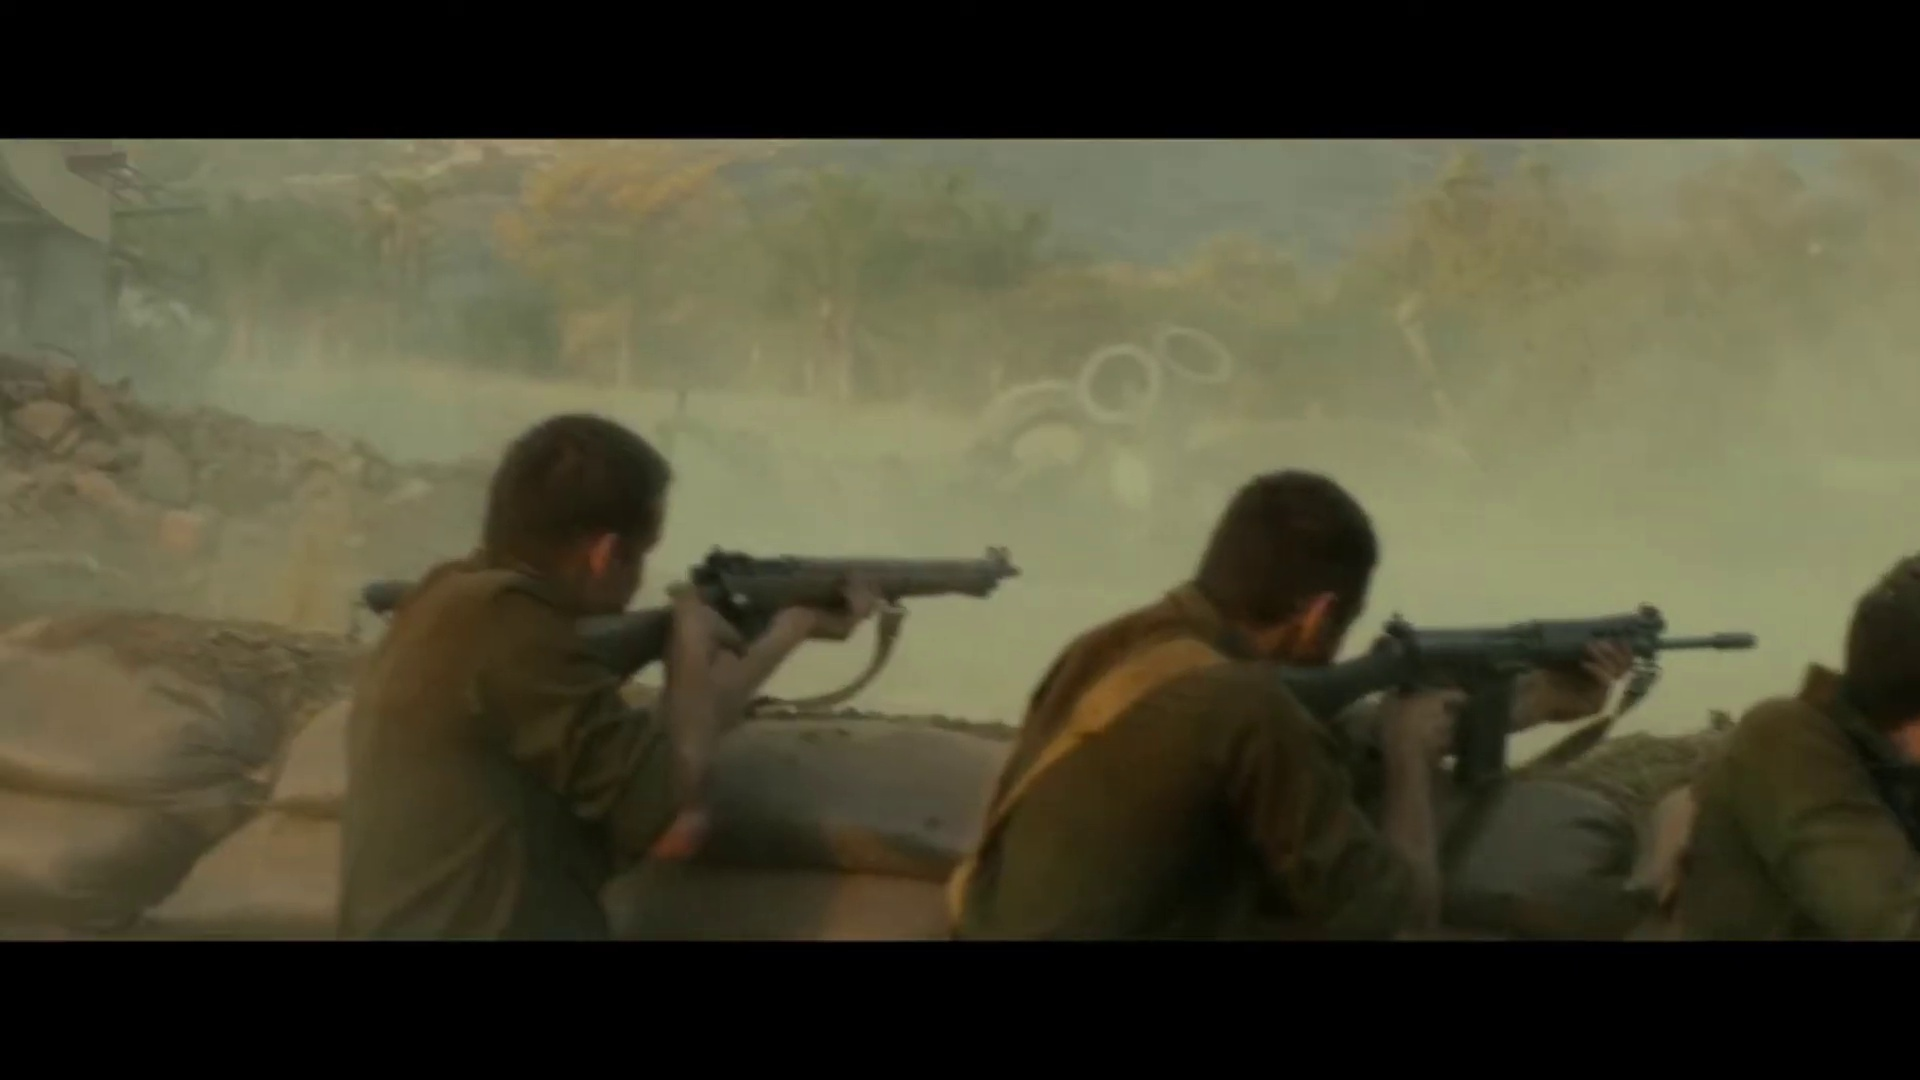gun: (1238, 601, 1764, 782), (546, 538, 1025, 682)
p_w_gun: (935, 469, 1767, 944), (323, 405, 1025, 943)
p_wo_gun_not_carrying_normal_pose: (1655, 551, 1920, 942)
